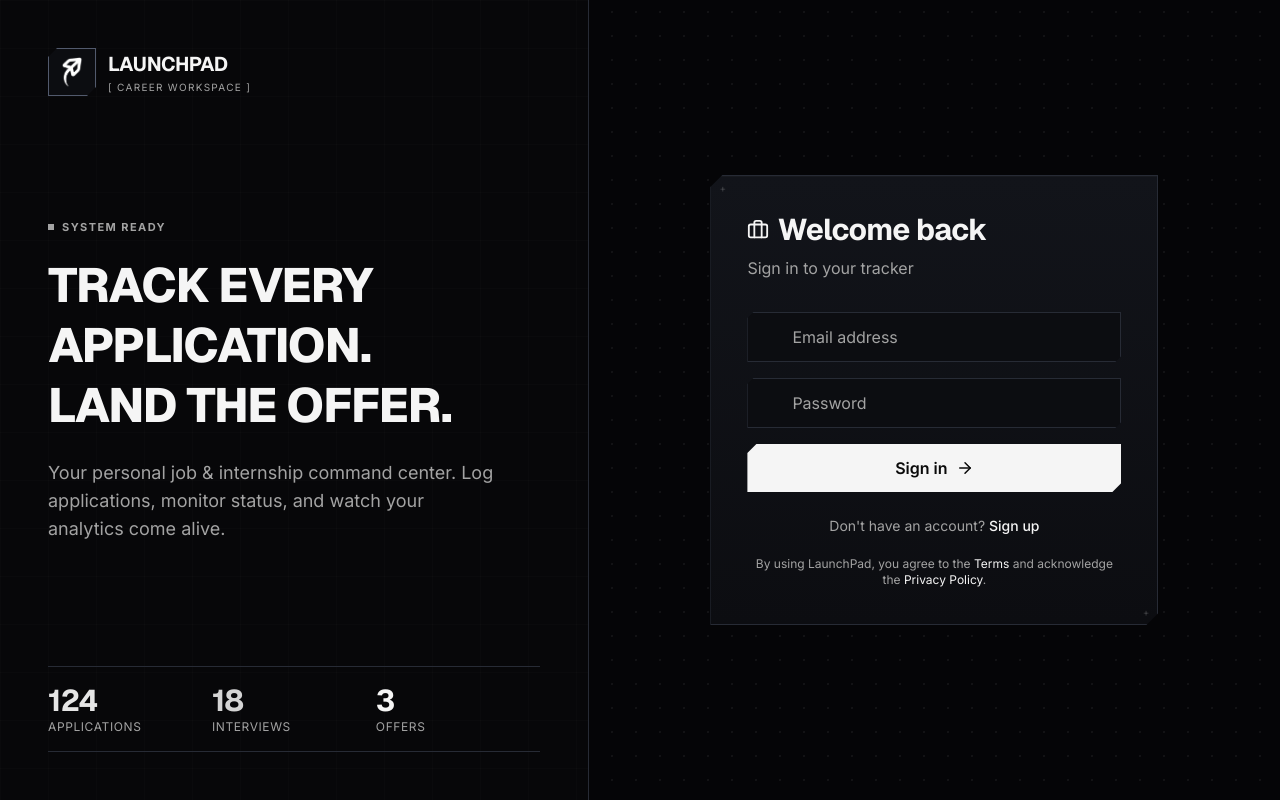
local registration remains available when enabled by the server
The width and height of the screenshot is (1280, 800).
Click the button "Sign up".
click(1014, 526)  # box [989,516,1040,536]
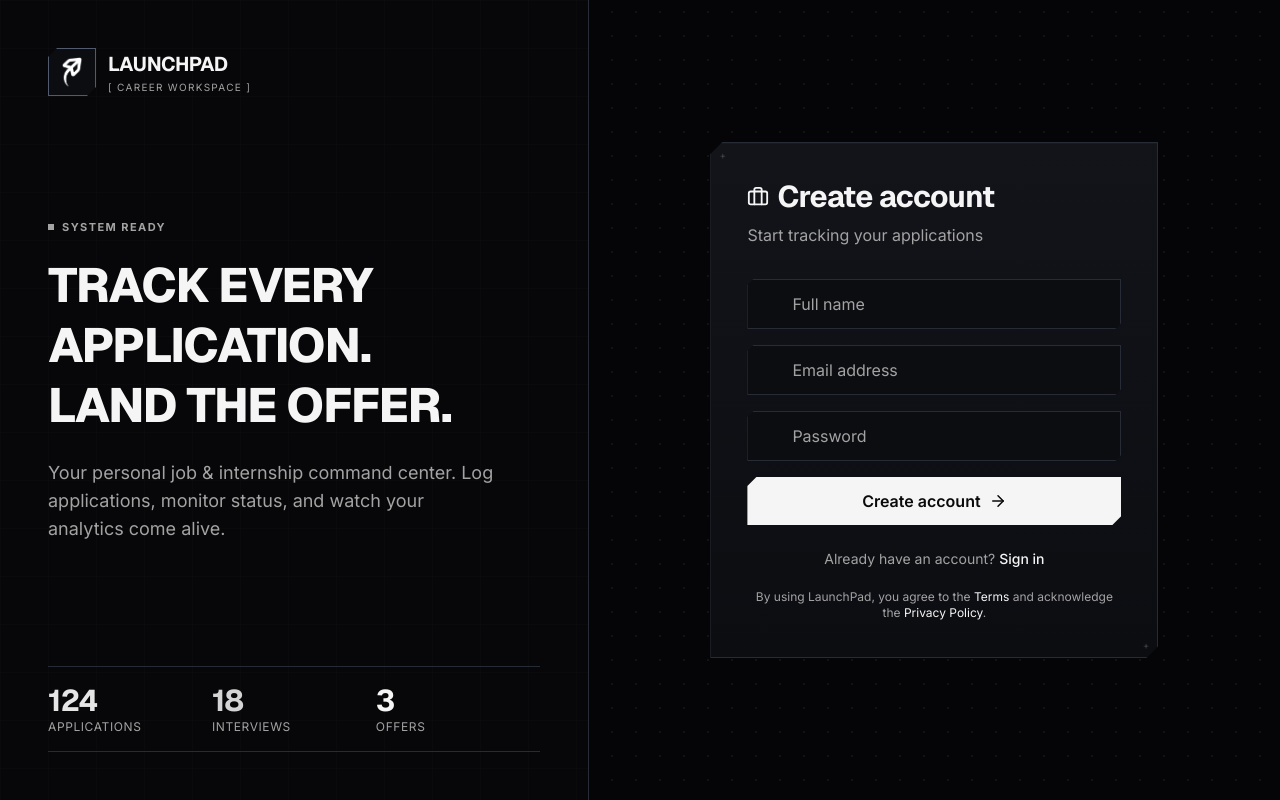
Expected: the field with test id "auth-name" is shown, [747,279,1121,329]
